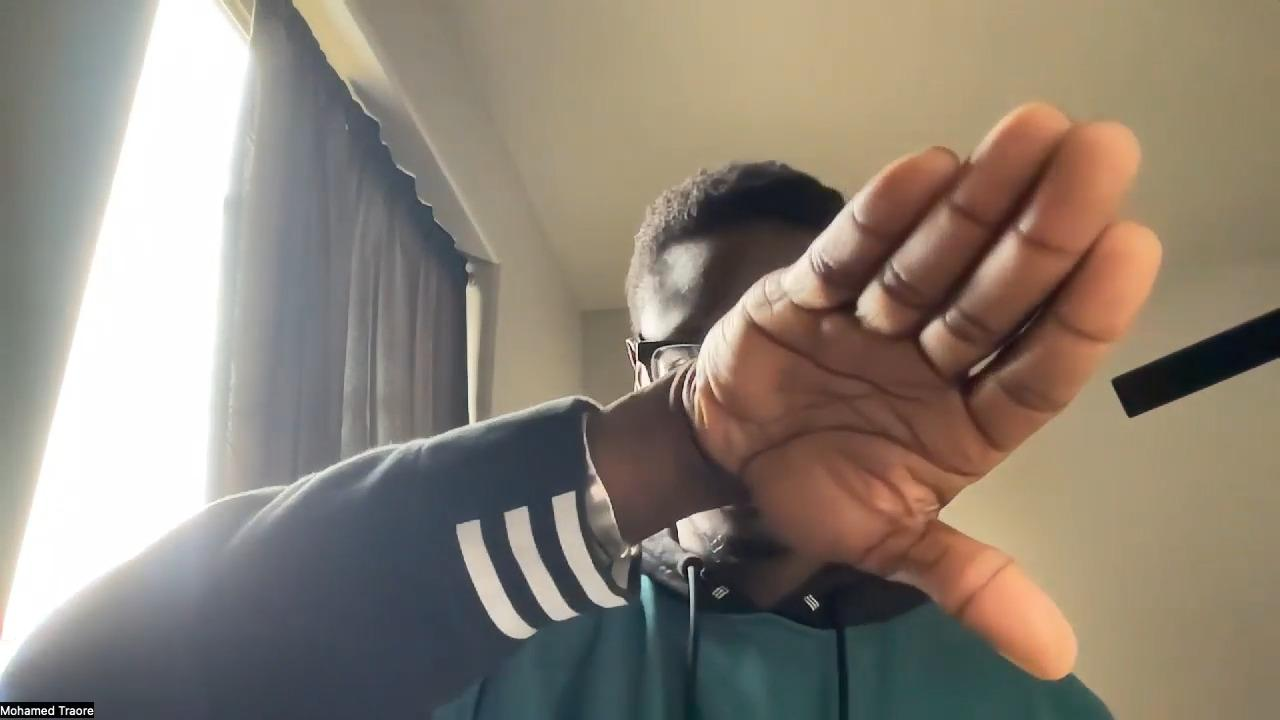Paper: (685, 102, 1163, 686)
